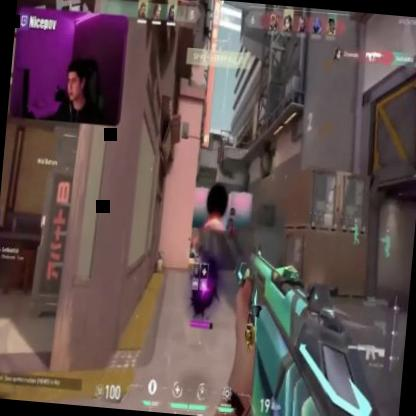enemy: (226, 208, 238, 244)
enemy_head: (230, 209, 235, 219)
